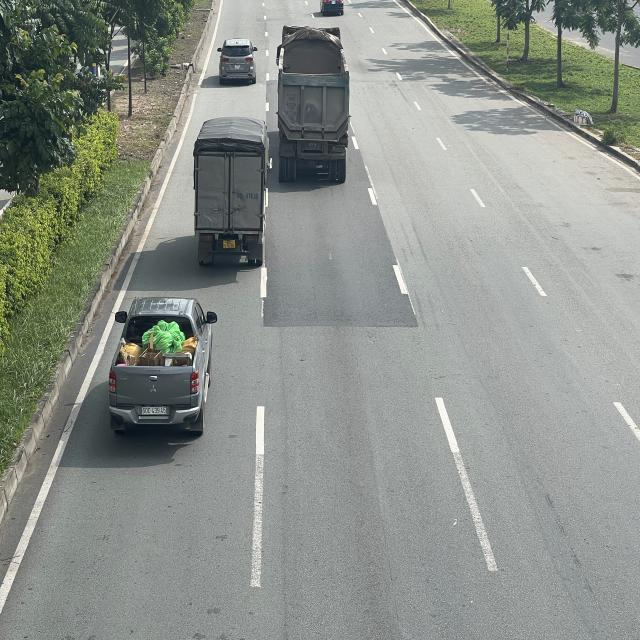car: (107, 296, 216, 436), (216, 39, 256, 87)
container: (274, 23, 349, 180)
truck: (192, 119, 272, 267)
